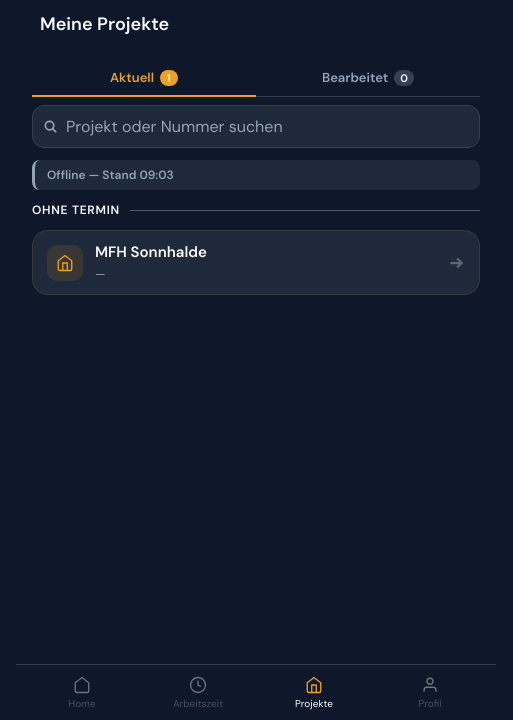
Karte der wartenden Rapporte › nennt den Fehler, wenn der Server ihn abgelehnt hat
The width and height of the screenshot is (513, 720).
Step 1. Click the text "MFH Sonnhalde" → (151,252), box [95, 242, 207, 262]
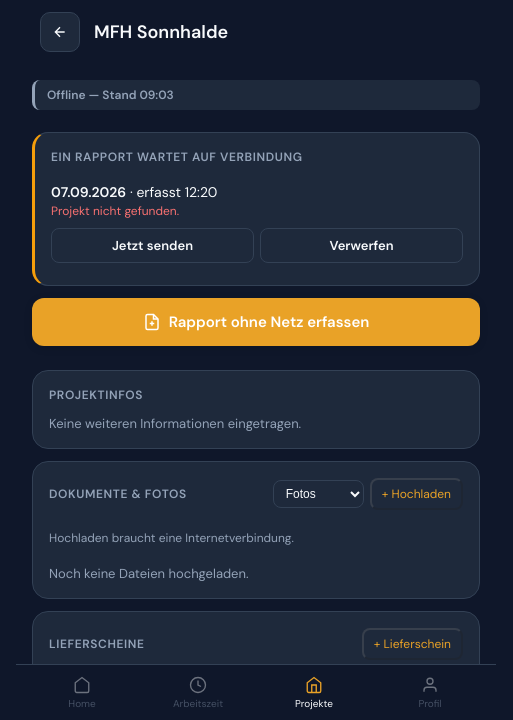
Now the text "Projekt nicht gefunden." is shown, box [51, 203, 179, 219]
